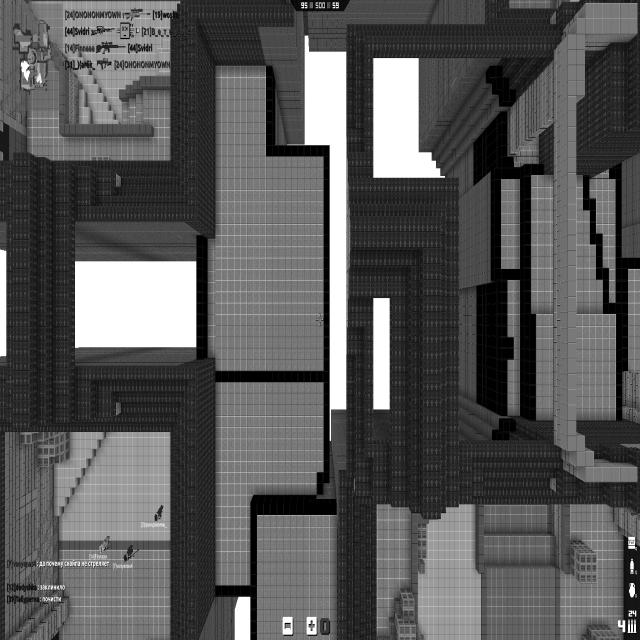Head: (99, 545, 104, 552), (154, 513, 158, 521), (124, 554, 128, 561)
Player: (123, 543, 139, 562), (98, 534, 110, 554), (154, 503, 163, 521)
